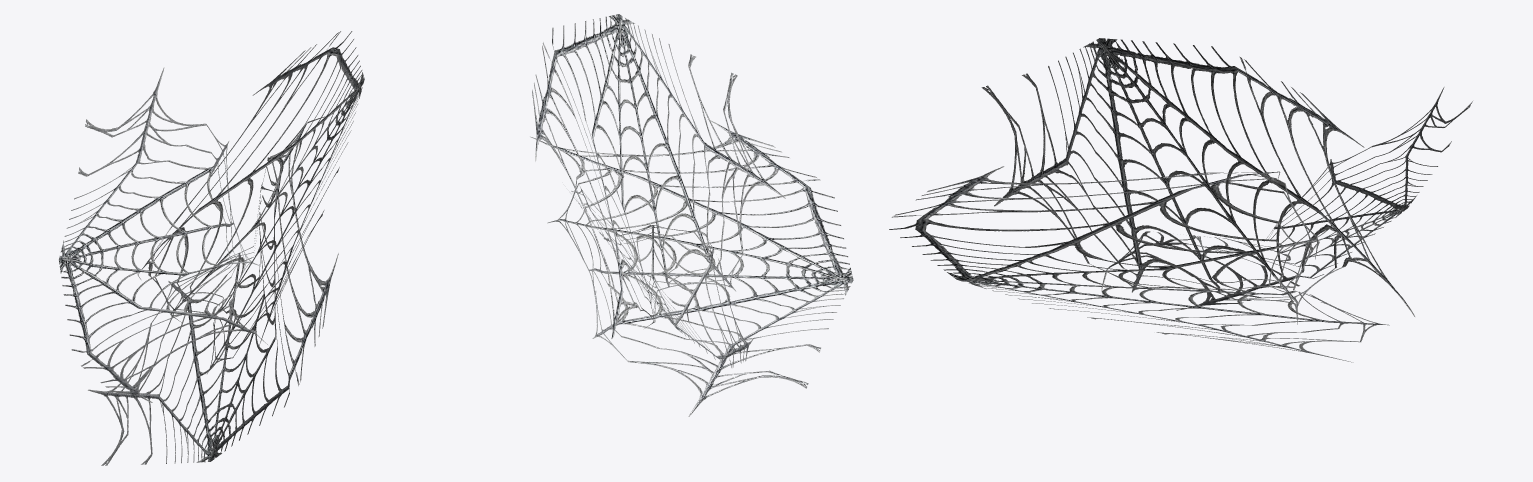
File: Webbing 1.fbx
3 renders of one model, left to right at view 1: azimuth 30°, elevation 25°; view 2: azimuth 150°, elevation 25°; view 3: azimuth 270°, elevation 25°, orthographic. The views are drawn at different scales.
Parts seen in each view (by area): view 1: Webbing; view 2: Webbing; view 3: Webbing.
Part boxes in pixels (box(x1,y1,x2,y2)): Webbing: box(59, 31, 364, 465); Webbing: box(530, 14, 853, 416); Webbing: box(889, 38, 1472, 362).
Bounding box in the file's own units: 615 × 721 × 655.
Materials: 1 (1 with a texture image).
